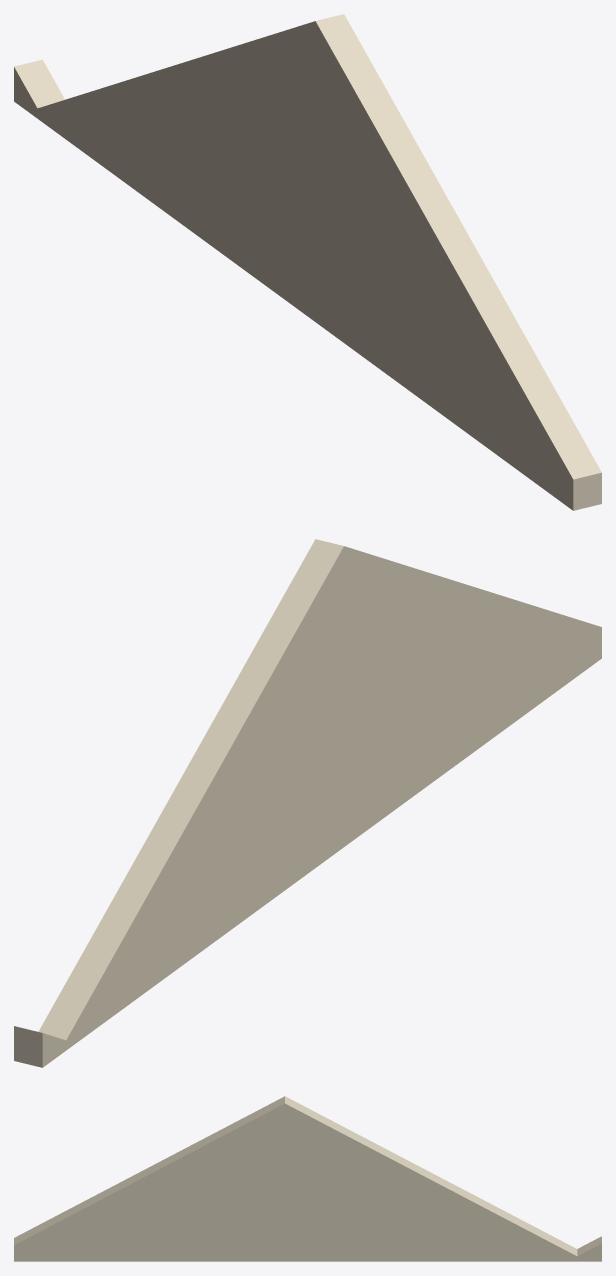
3 renders of one model, top to bottom at view 1: azimuth 30°, elevation 25°; view 2: azimuth 150°, elevation 25°; view 3: azimuth 270°, elevation 25°, orthographic. The views are drawn at different scales.
Parts seen in each view (by area): view 1: B-ROOF-INFILL-07; view 2: B-ROOF-INFILL-07; view 3: B-ROOF-INFILL-07.
Part boxes in pixels (bbox=[...]): B-ROOF-INFILL-07: bbox=[14, 14, 601, 510]; B-ROOF-INFILL-07: bbox=[14, 539, 601, 1067]; B-ROOF-INFILL-07: bbox=[14, 1096, 601, 1261].
Bounding box in the file's own units: 0.16 × 1.61 × 5.41.
